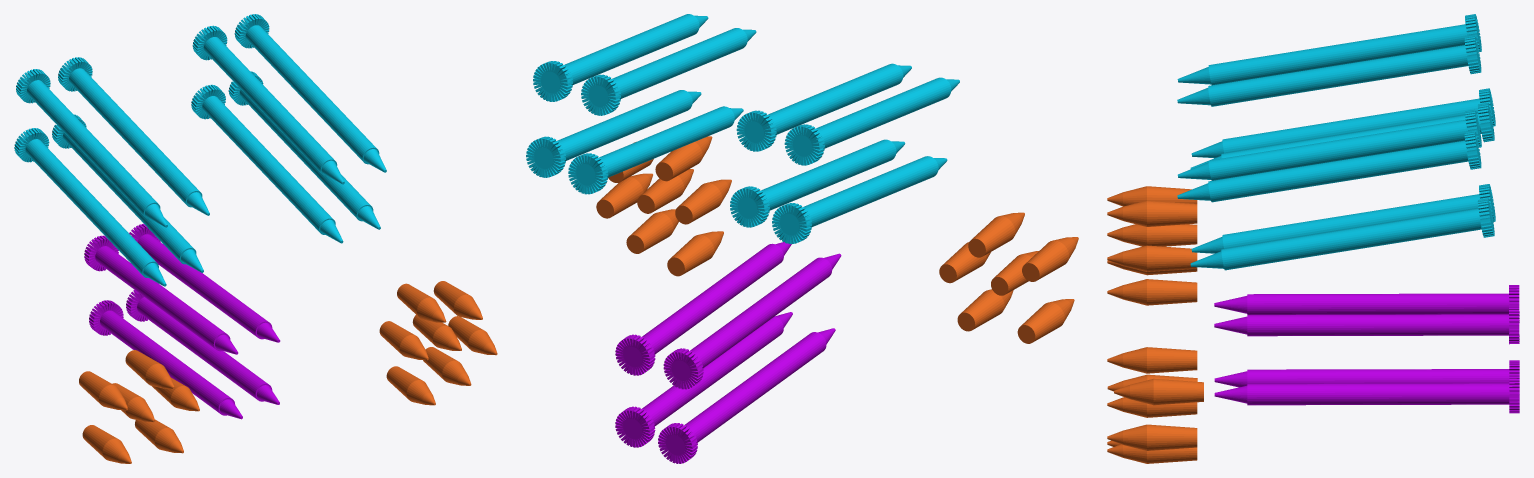
Rendered from MechanicTypeBoss1_ballchild.glb.
The picture shows the model from 3 angles, left to right: view 1: azimuth 30°, elevation 25°; view 2: azimuth 150°, elevation 25°; view 3: azimuth 270°, elevation 25°; orthographic projection. The views are drawn at different scales.
Visible parts, largest first — view 1: rocketBullets; view 2: rocketBullets; view 3: rocketBullets.
Boxes of the visible parts, x1,y1,x2,y2 form: rocketBullets: (14,14,497,463); rocketBullets: (526,14,1078,463); rocketBullets: (1107,14,1519,463).
Size of the model in its own units: 5.04 by 3.72 by 4.17.
